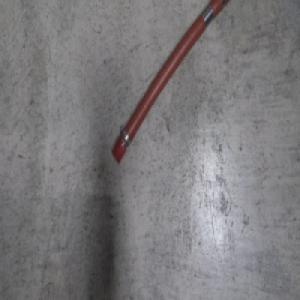Hose: (110, 0, 234, 166)
